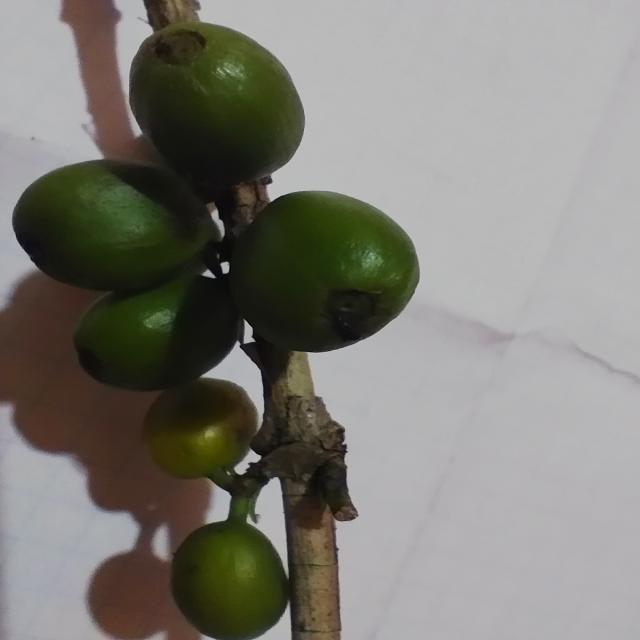Infectado: (226, 190, 421, 355), (129, 22, 305, 186)
Sano: (12, 160, 222, 297), (73, 253, 242, 393), (168, 504, 289, 640), (142, 378, 261, 490)
